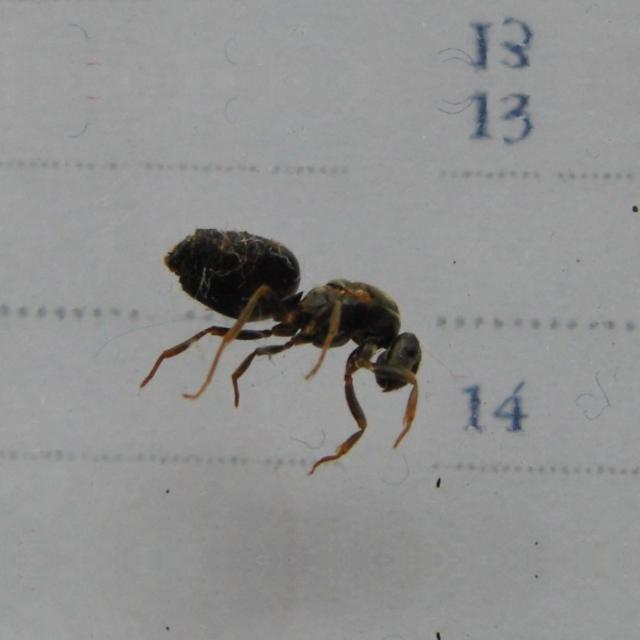Lasius: (166, 197, 462, 467)
